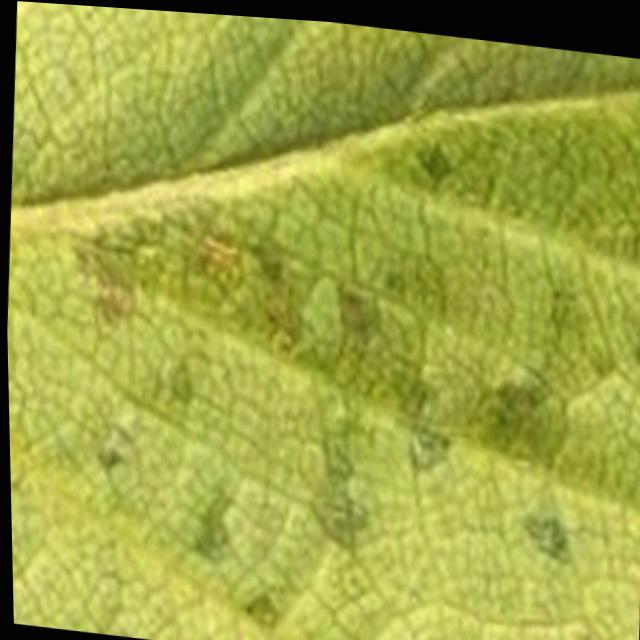Angular Leafspot: (8, 44, 640, 640)
